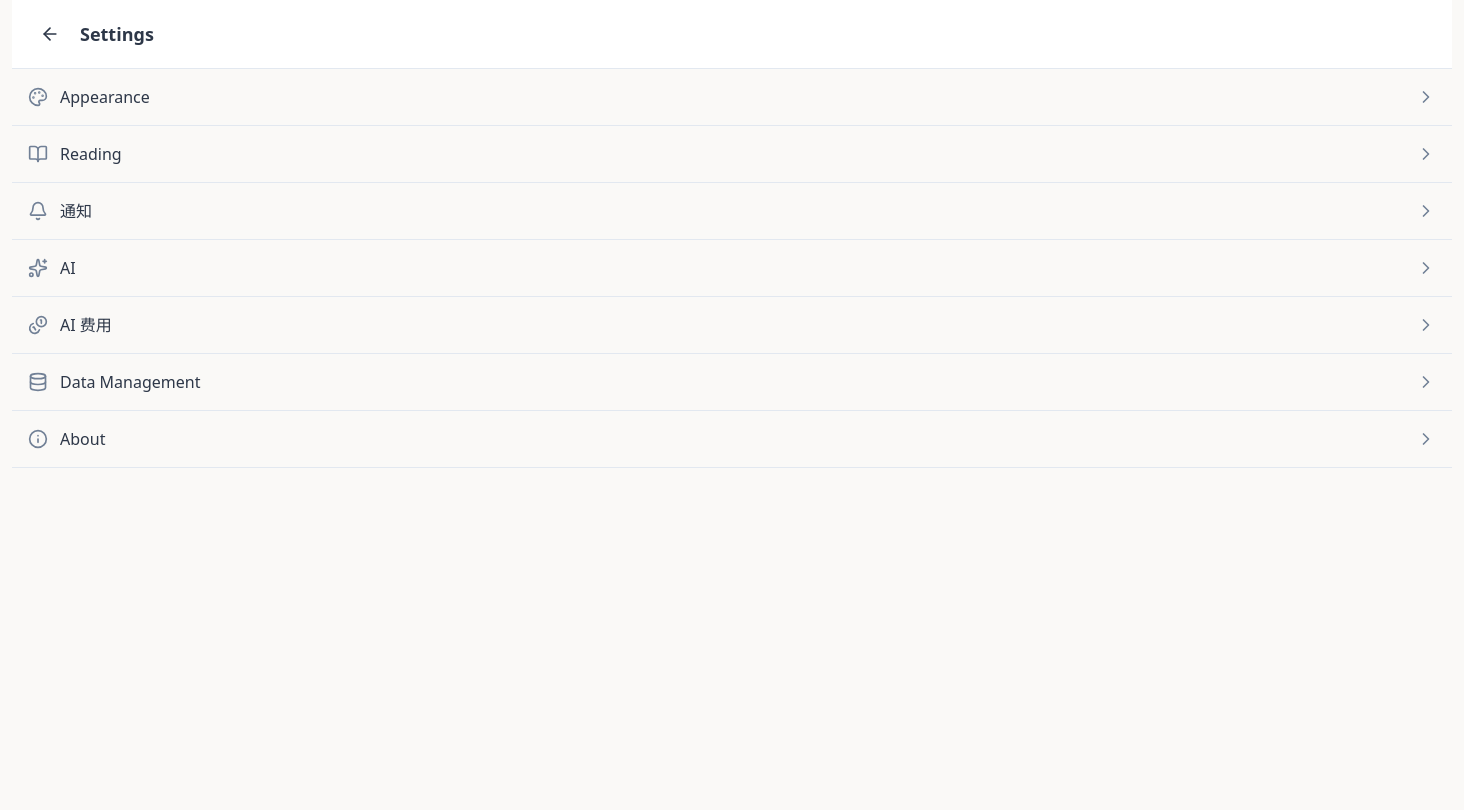
Test case: MobileSettingsPanel › About Section › should show app information when expanded
This screenshot has width=1464, height=810.
Click the button "About": (83, 439) [12,411,1452,467]
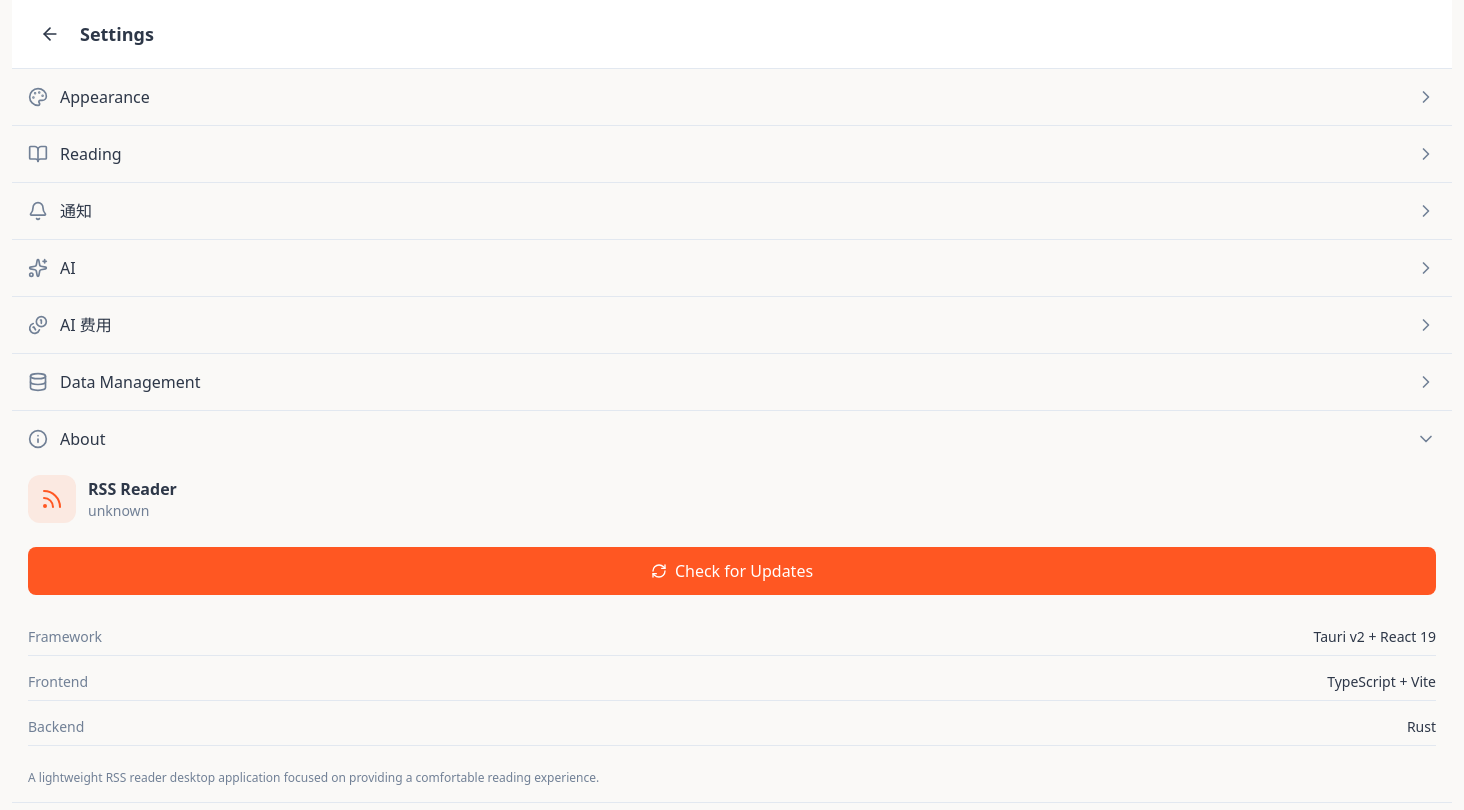
Check: the heading "RSS Reader" is shown, box [88,477,177,501]
